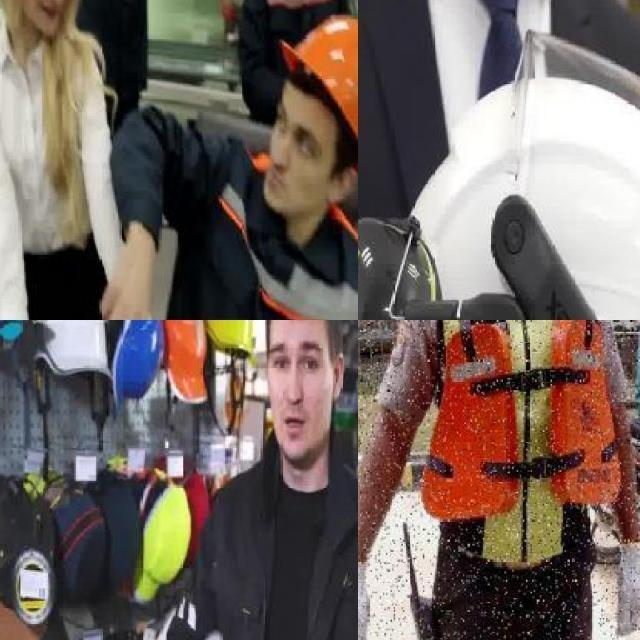apron: (610, 538, 640, 640), (358, 550, 377, 640)
